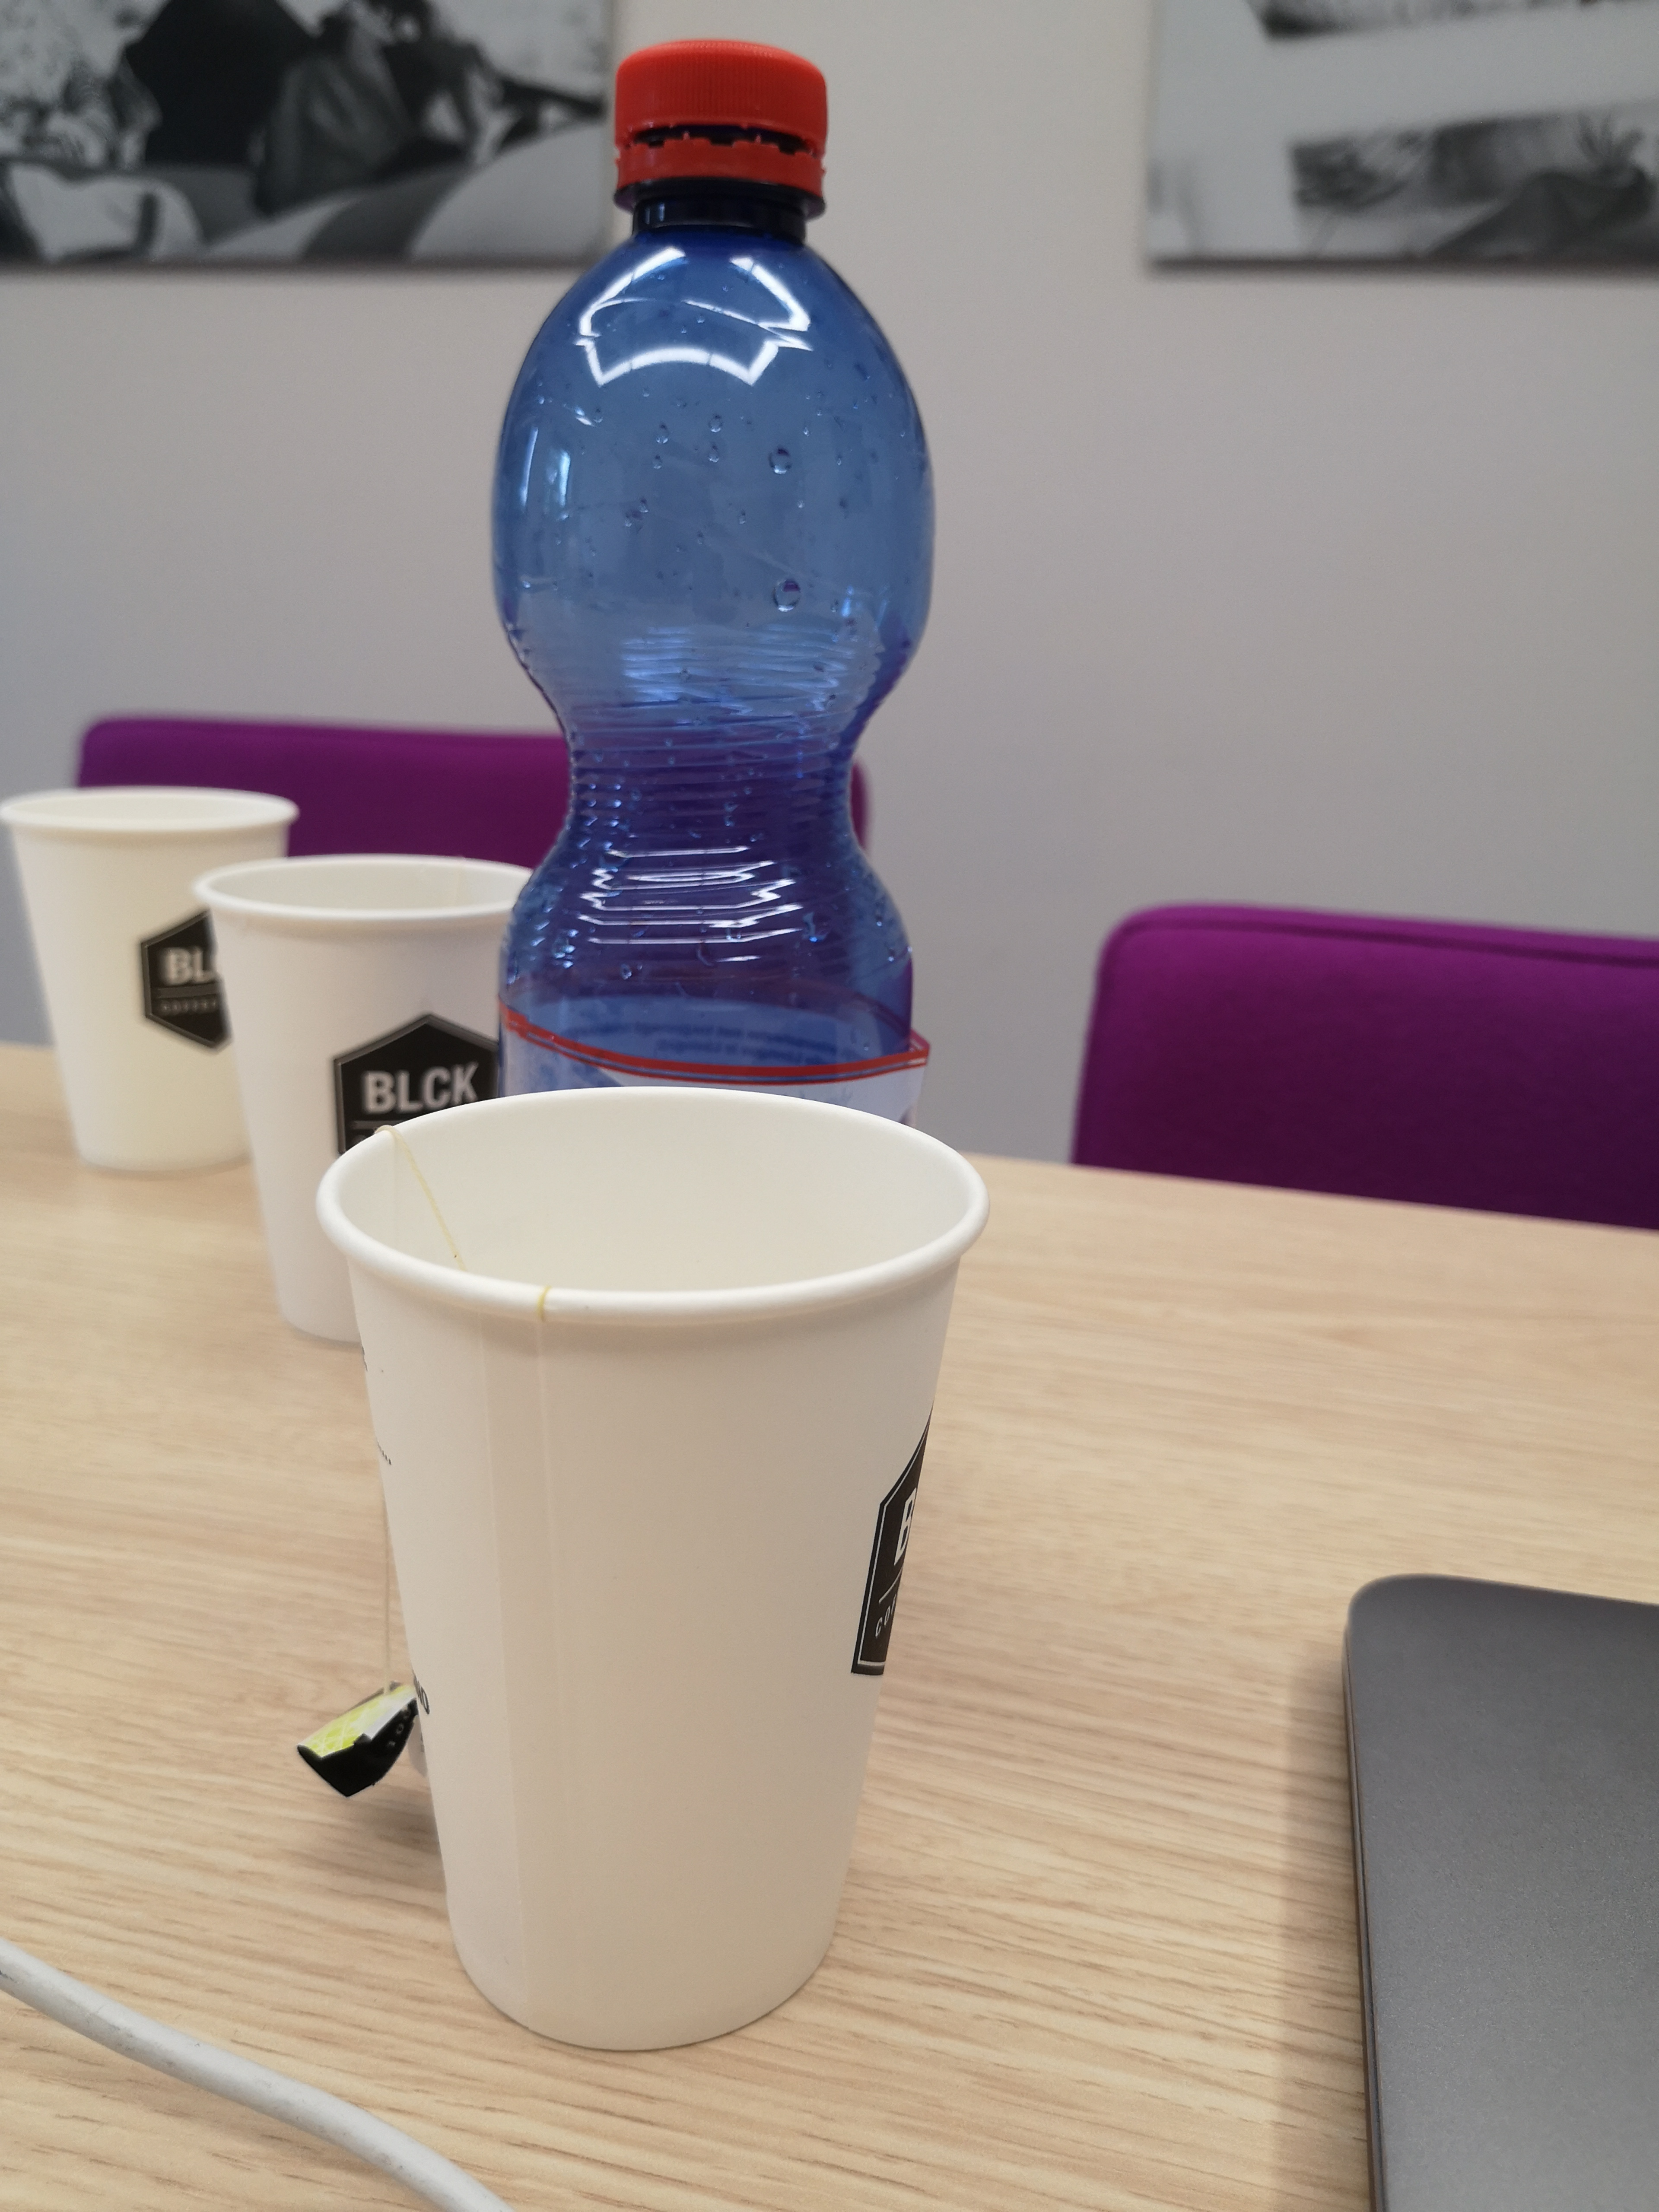cup: (291, 1068, 1028, 2088), (0, 758, 307, 1202), (195, 829, 533, 1085)
